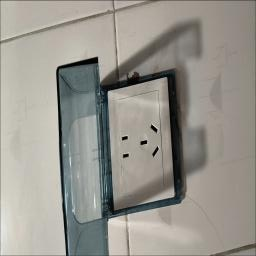outlet: (101, 68, 184, 229)
